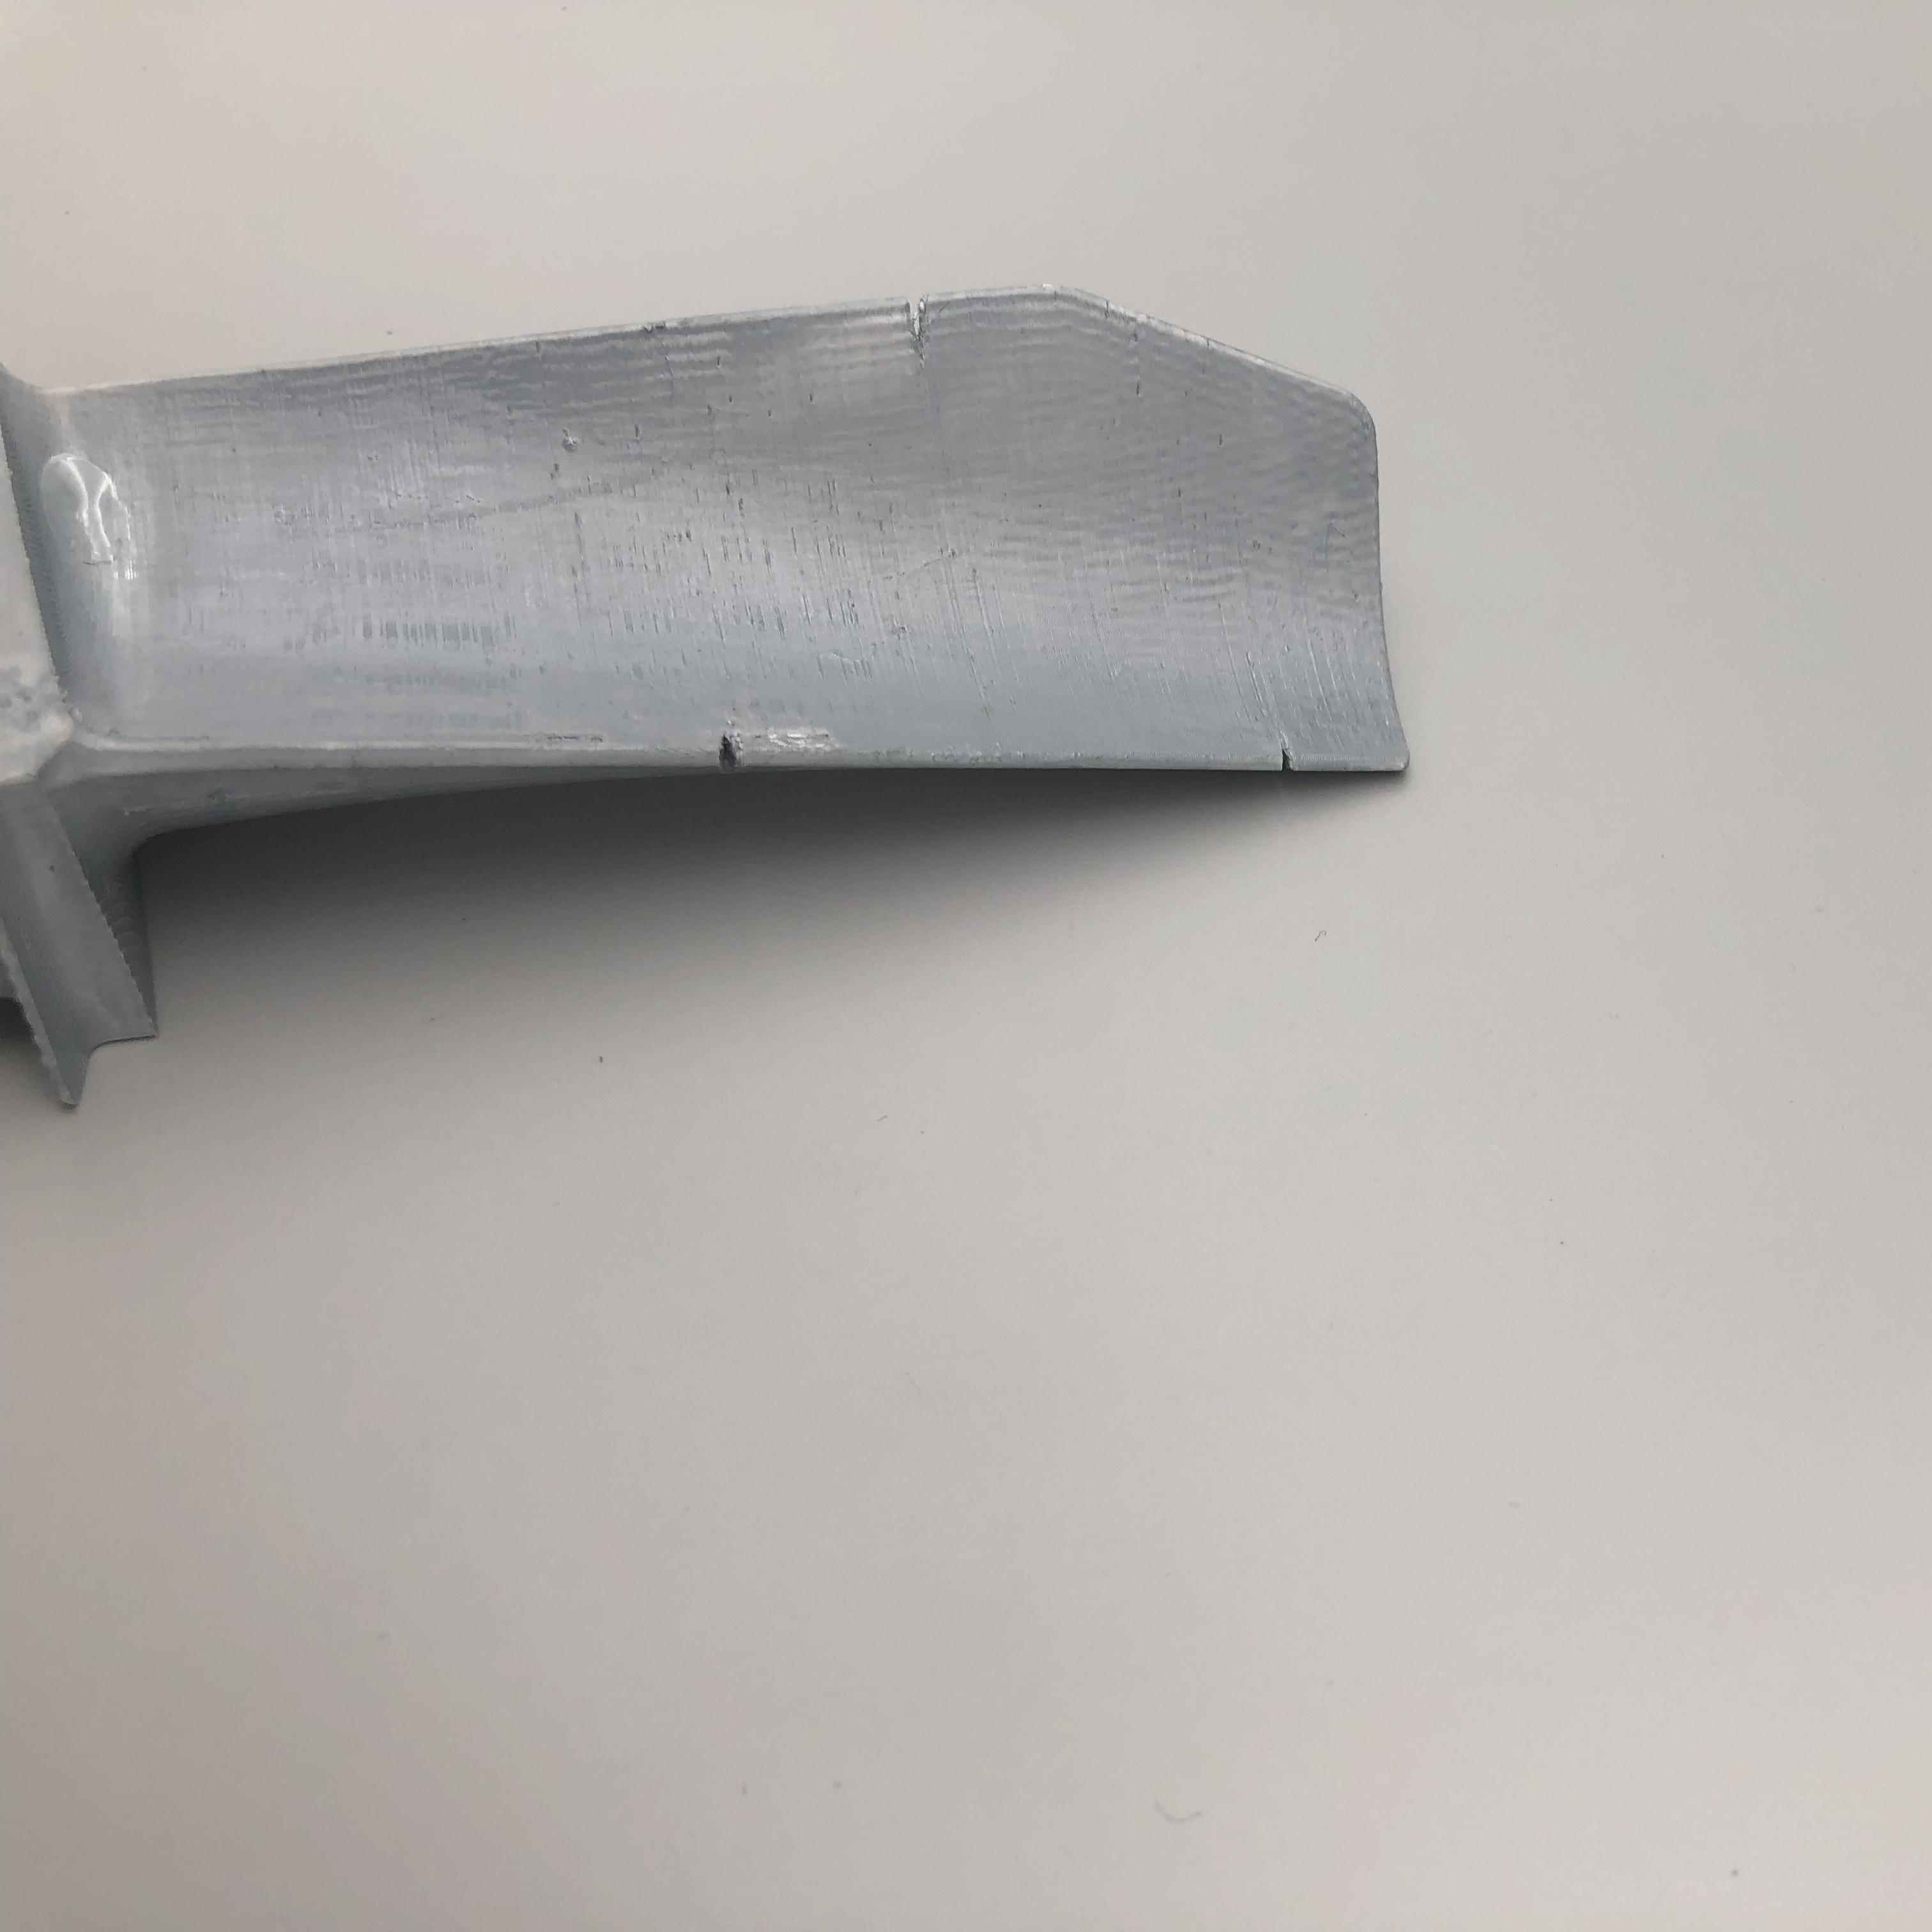groove: (886, 310, 948, 352), (708, 725, 766, 768), (1272, 736, 1316, 773)
